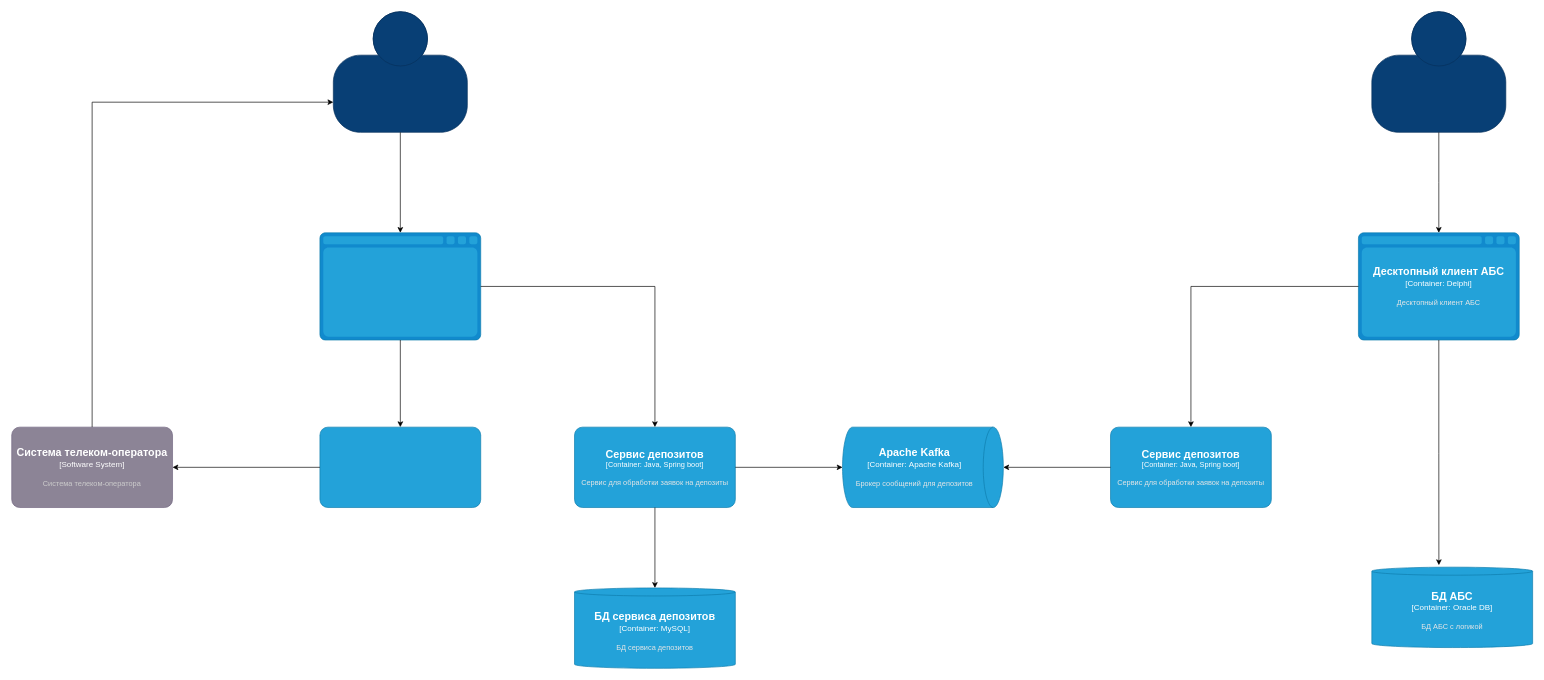
Image size: 1544x680. Some labels were removed from this diagram. The centre of each missing label's shape, as x and y in pixels:
"Клиент [Клиент] Клиент банка" belongs at point (400, 71).
"Менеджер [Менеджер] Менеджер банка" belongs at point (1438, 71).
"Монолит интернет-банка [Container: ASP.NET] Монолит интернет-банка" belongs at point (400, 467).
"Сайт банка [Container: PHP, React] Веб-приложение" belongs at point (400, 286).
